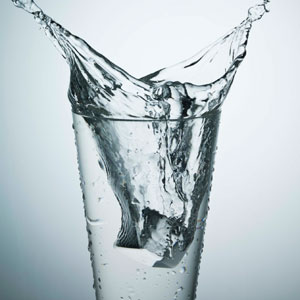glass of water: (64, 70, 225, 300)
